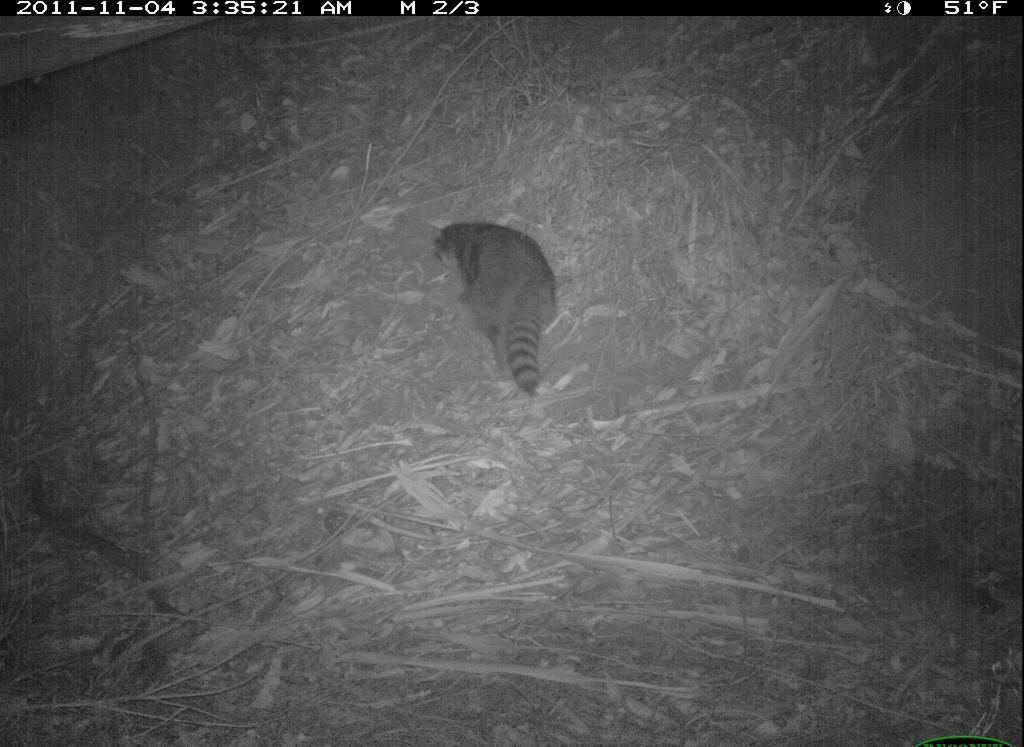raccoon: (419, 200, 571, 405)
